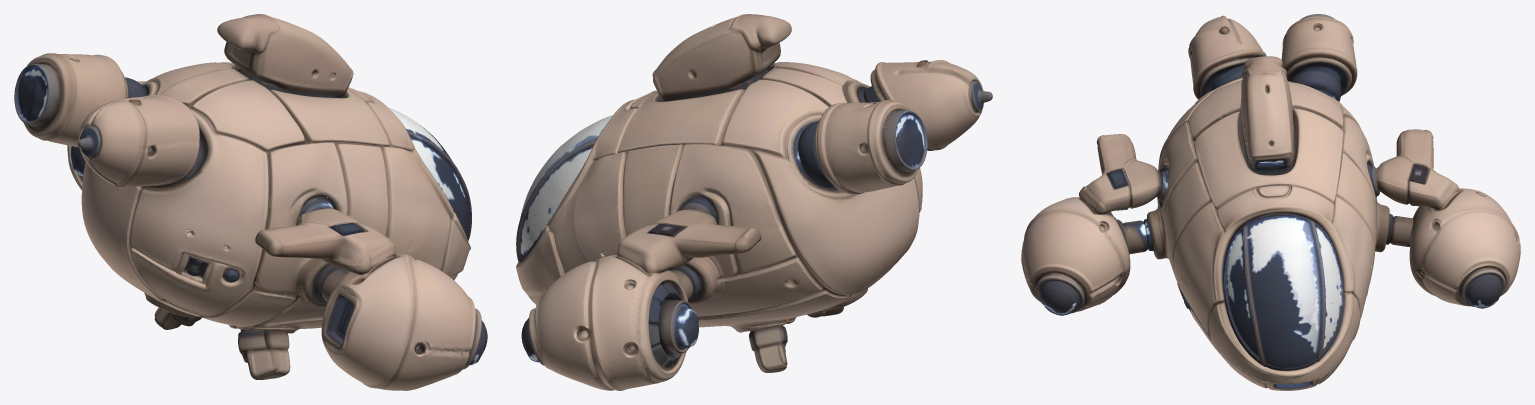
The model's file is supportive.glb.
3 renders of one model, left to right at view 1: azimuth 30°, elevation 25°; view 2: azimuth 150°, elevation 25°; view 3: azimuth 270°, elevation 25°, orthographic. The views are drawn at different scales.
Visible parts, largest first — view 1: tripo_node_6afac3d7-4280-44d8-a593-d31b7b060f6f; view 2: tripo_node_6afac3d7-4280-44d8-a593-d31b7b060f6f; view 3: tripo_node_6afac3d7-4280-44d8-a593-d31b7b060f6f.
Boxes of the visible parts, <box> form: tripo_node_6afac3d7-4280-44d8-a593-d31b7b060f6f: <box>14,14,487,390</box>; tripo_node_6afac3d7-4280-44d8-a593-d31b7b060f6f: <box>516,14,992,390</box>; tripo_node_6afac3d7-4280-44d8-a593-d31b7b060f6f: <box>1021,14,1520,390</box>.
Bounding box in the file's own units: 0.7737 × 0.5665 × 0.98.
Materials: 1 (1 with a texture image).
